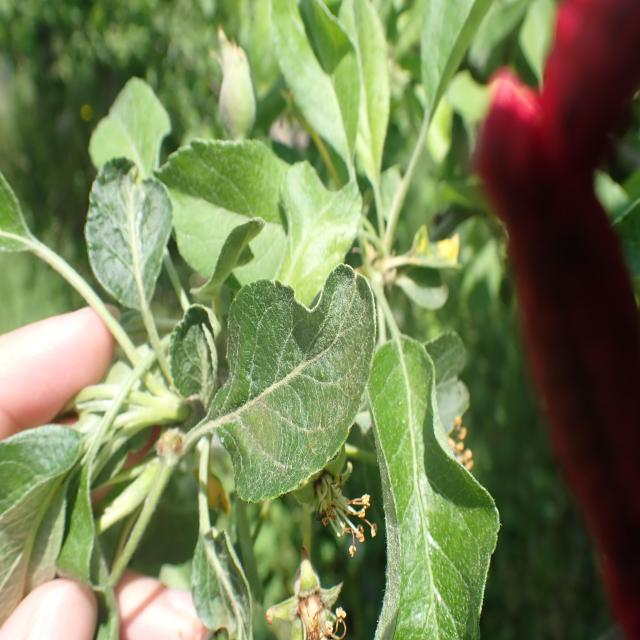scab: (184, 285, 385, 464)
